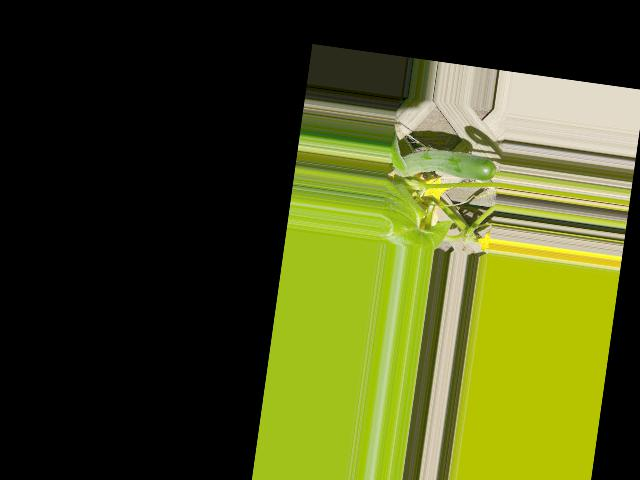cucumber: (387, 142, 496, 189)
